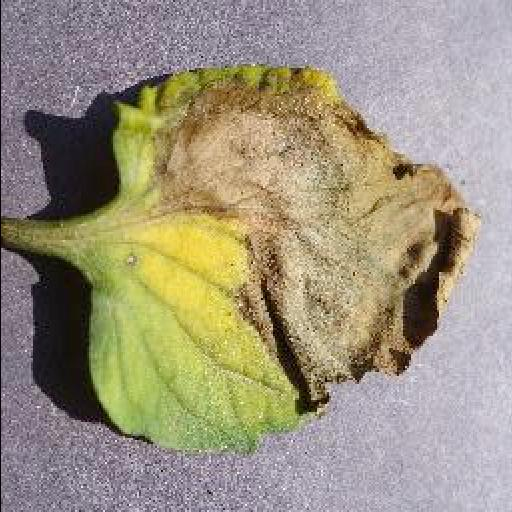disease_tomato: (85, 66, 483, 458)
